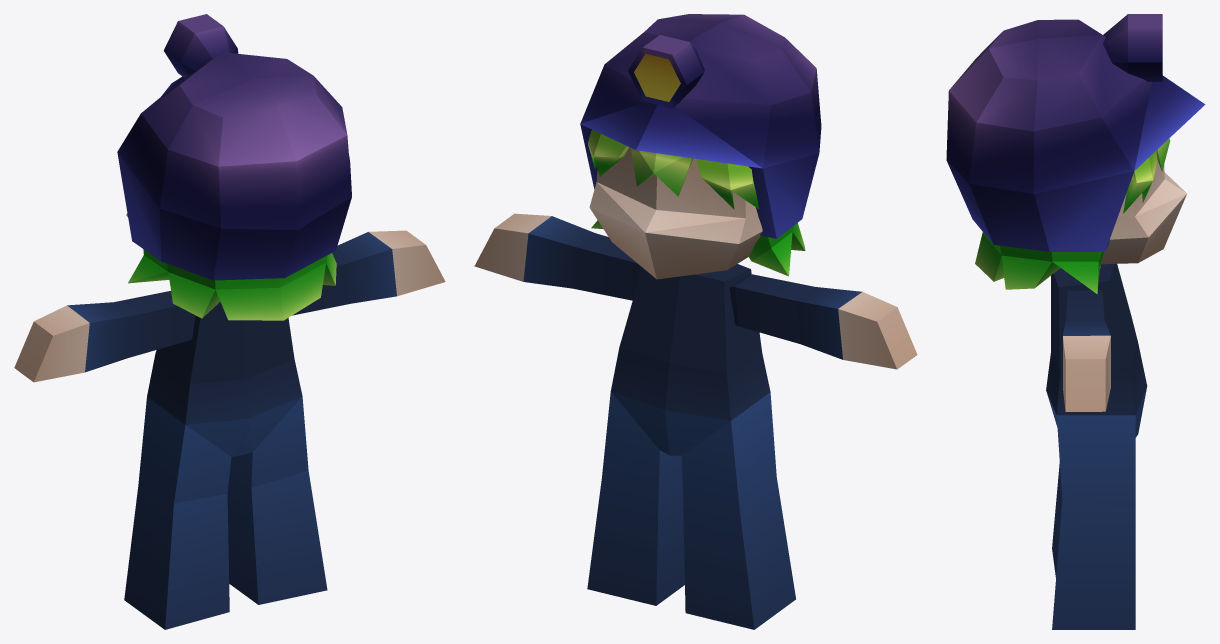
Rendered from Character_driver.gltf.
3 renders of one model, left to right at view 1: azimuth 30°, elevation 25°; view 2: azimuth 150°, elevation 25°; view 3: azimuth 270°, elevation 25°, orthographic. The views are drawn at different scales.
Visible parts, largest first — view 1: Character_driver; view 2: Character_driver; view 3: Character_driver.
Boxes of the visible parts, x1=… form: Character_driver: x1=14, y1=14, x2=445, y2=629; Character_driver: x1=474, y1=14, x2=917, y2=629; Character_driver: x1=946, y1=14, x2=1205, y2=629.
Bounding box in the file's own units: 1.43 × 1.83 × 0.7583.
Materials: 1 (1 with a texture image).
